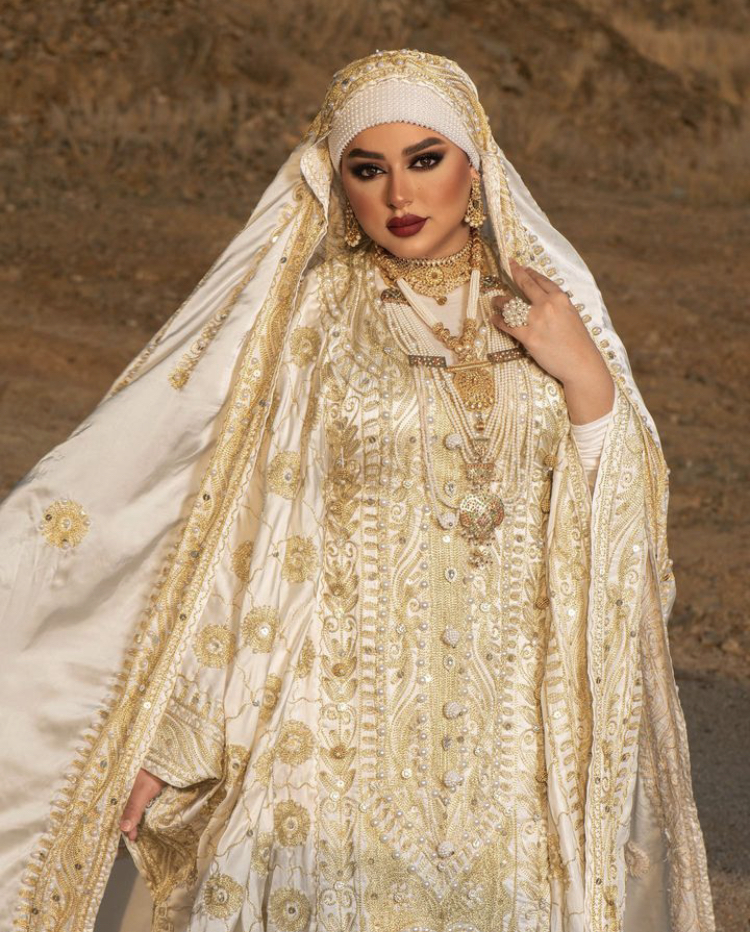Saudi_Founding_Day: (4, 45, 721, 932)
